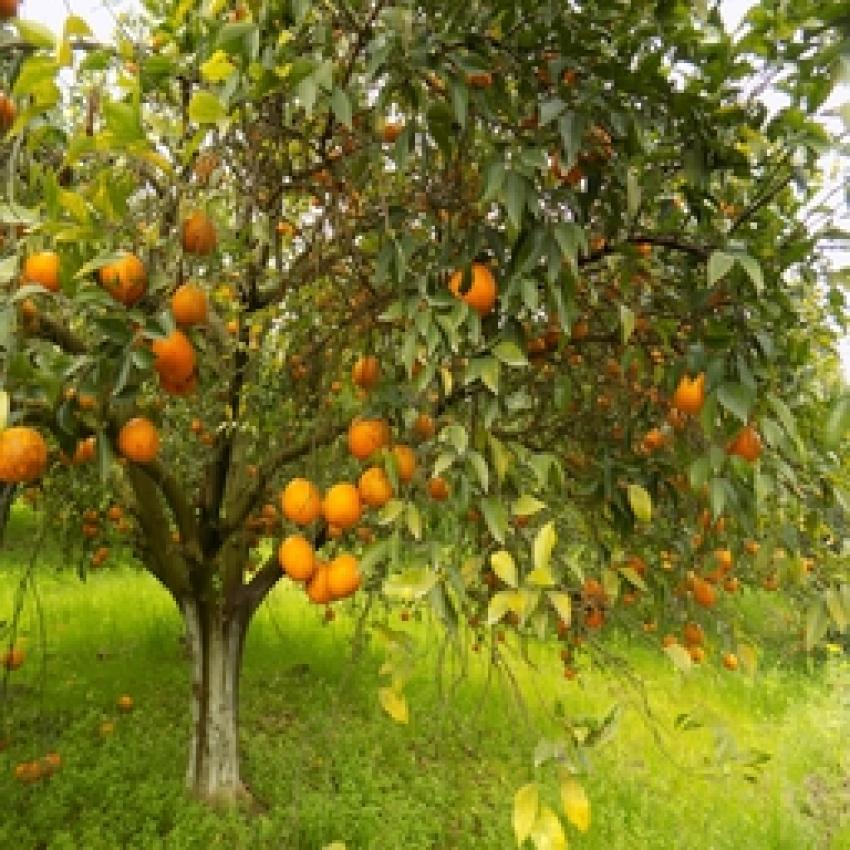Buen estado: (446, 262, 498, 324), (0, 427, 53, 484), (271, 526, 318, 586), (120, 413, 166, 472), (279, 476, 326, 526), (323, 483, 362, 532), (330, 551, 367, 596), (303, 561, 343, 599)
